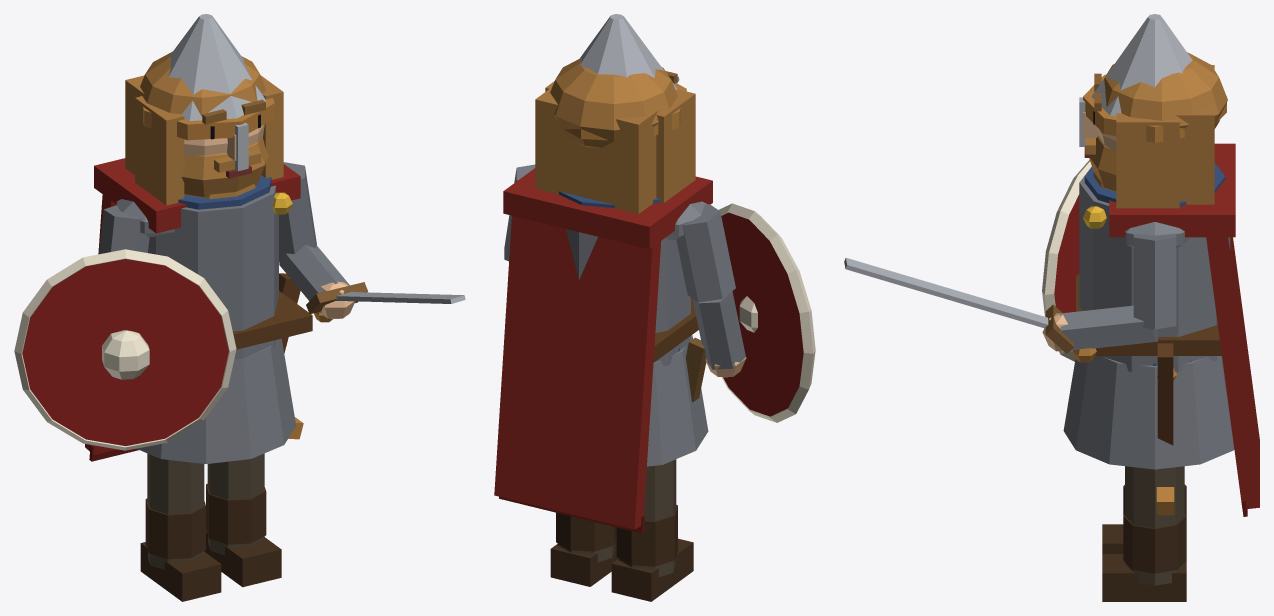
File: got.glb
The picture shows the model from 3 angles, left to right: view 1: azimuth 30°, elevation 25°; view 2: azimuth 150°, elevation 25°; view 3: azimuth 270°, elevation 25°; orthographic projection.
Visible parts, largest first — view 1: reka_l, cialo, glowa, noga_l, noga_p, reka_p, peleryna; view 2: peleryna, glowa, reka_l, cialo, noga_l, noga_p, reka_p; view 3: cialo, glowa, reka_p, noga_p, peleryna, reka_l, noga_l.
Part boxes in pixels (x1,y1,x2,y2): reka_l: (14,205,236,450); cialo: (94,158,312,463); glowa: (125,14,283,205); noga_l: (140,453,221,601); noga_p: (204,453,281,587); reka_p: (279,162,465,322); peleryna: (85,194,138,461); peleryna: (494,216,661,533); glowa: (535,14,695,213); reka_l: (676,203,815,422); cialo: (503,168,712,466); noga_l: (611,459,693,601); noga_p: (550,512,618,586); reka_p: (504,76,679,261); cialo: (1063,143,1235,515); glowa: (1079,14,1227,208); reka_p: (844,233,1176,362); noga_p: (1102,466,1186,601); peleryna: (1206,237,1259,516); reka_l: (1042,160,1091,361); noga_l: (1102,484,1186,553).
Size of the model in its own units: 1.01 by 1.76 by 1.18.
